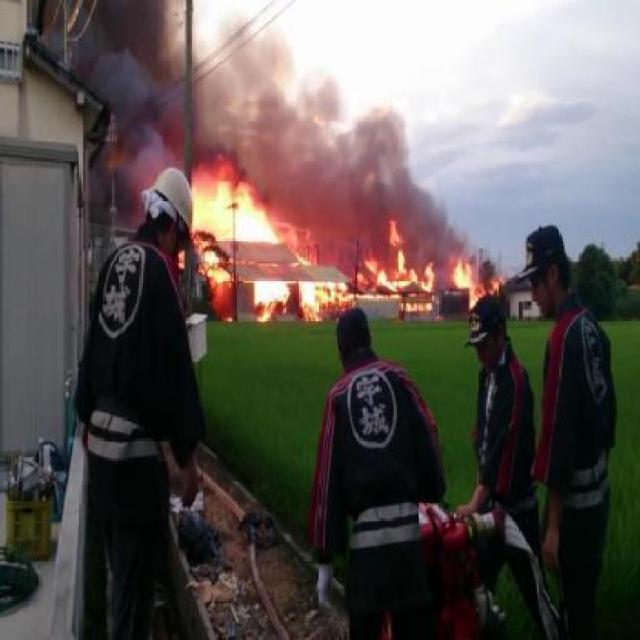Fire: (208, 226, 512, 325), (194, 156, 288, 250)
Smoke: (200, 72, 466, 254), (23, 0, 203, 192)
